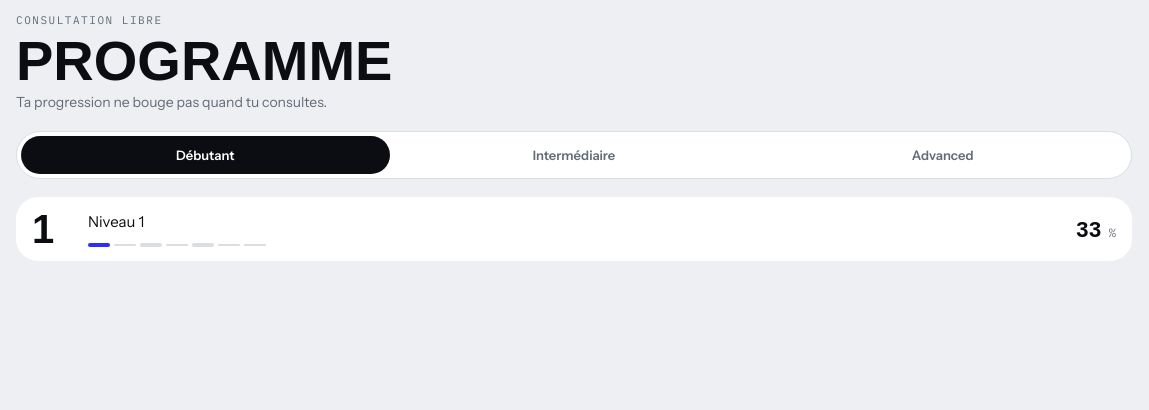
it: ProgrammeScreen › expanding a level row shows its 7 days, including rest days
What coordinates should you click on to do the following:
click the text "Niveau 1"
I would click on:
 (116, 222)
Its box is [88,212,144,231].
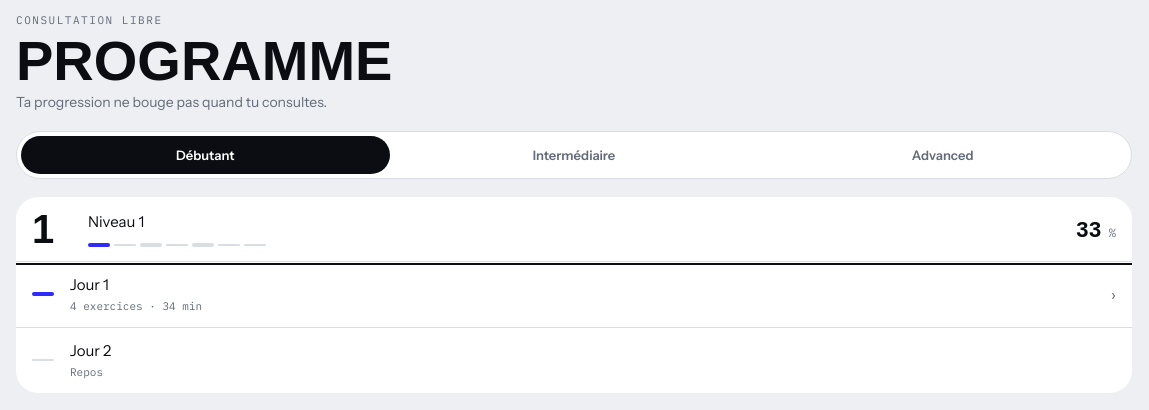
Check: the text "4 exercices · 34 min" is shown, box [70,299,202,313]
Check: the text "Repos" is shown, box [70,365,103,379]
